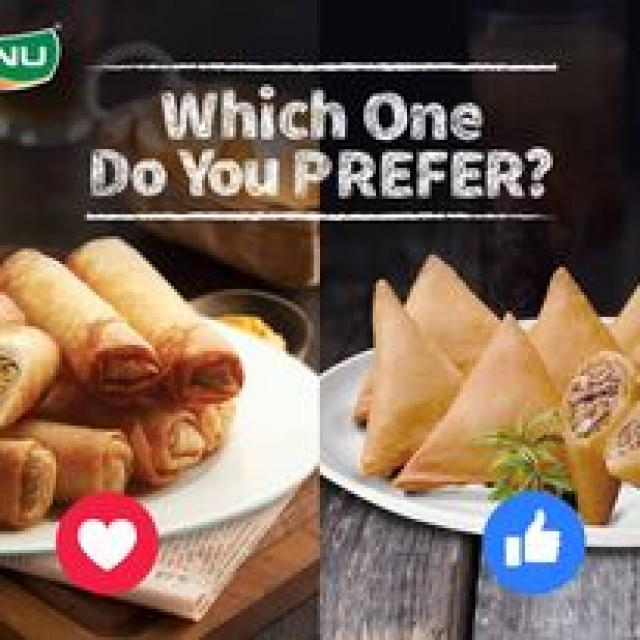Samosa: (351, 236, 631, 510)
Spring Rolls: (0, 217, 242, 508)
